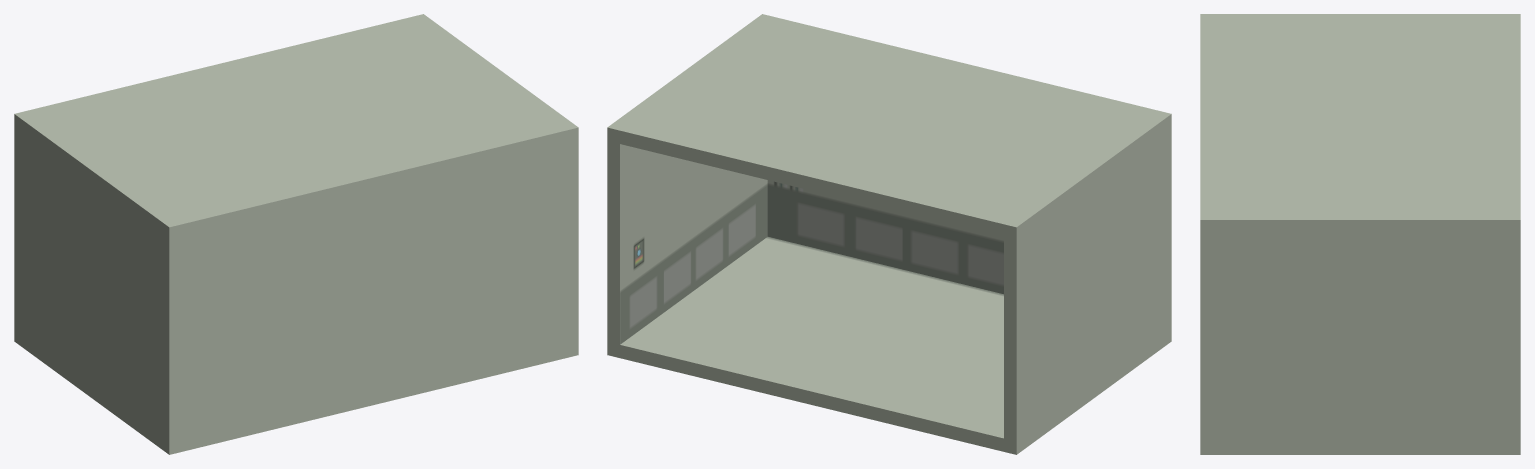
The model's file is departureBay.gltf.
3 renders of one model, left to right at view 1: azimuth 30°, elevation 25°; view 2: azimuth 150°, elevation 25°; view 3: azimuth 270°, elevation 25°, orthographic. The views are drawn at different scales.
Visible parts, largest first — view 1: departureBay; view 2: departureBay; view 3: departureBay.
Boxes of the visible parts, <box> form: departureBay: <box>14,14,578,454</box>; departureBay: <box>607,14,1171,454</box>; departureBay: <box>1200,14,1520,454</box>.
Size of the model in its own units: 12.8 by 6.8 by 8.4.
1 material, 1 textured.
